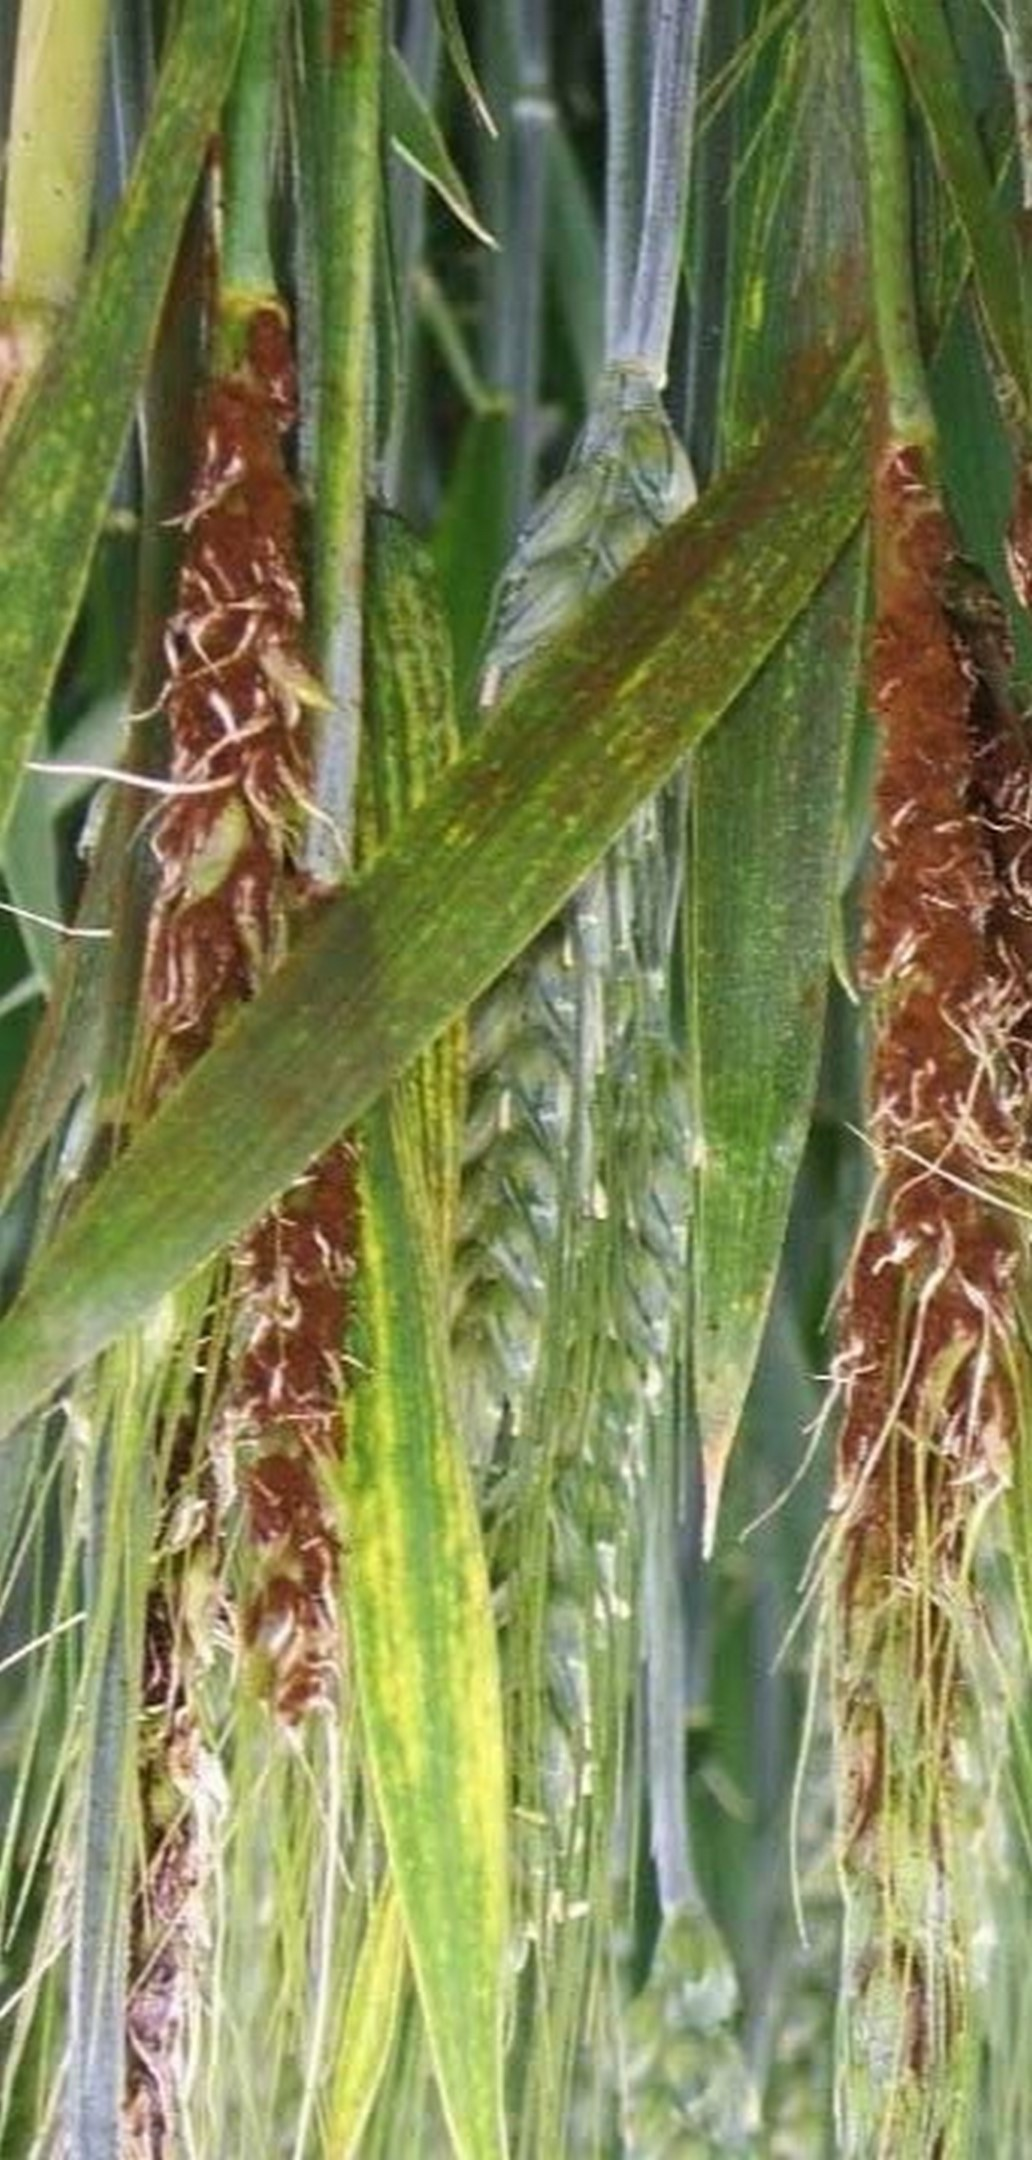Wheat Loose Smut: (143, 342, 401, 1696), (840, 463, 1032, 1649)
